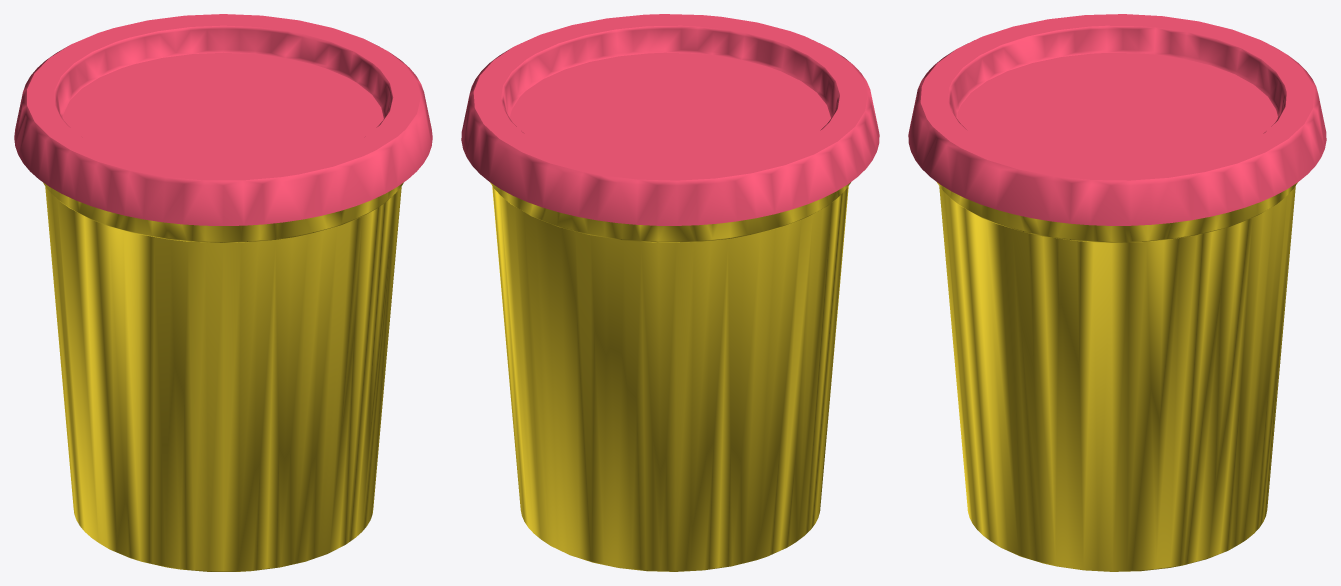
File: Toy188.fbx
3 views of the same model, side by side, from view 1: azimuth 30°, elevation 25°; view 2: azimuth 150°, elevation 25°; view 3: azimuth 270°, elevation 25° (orthographic).
Visible parts, largest first — view 1: Toy188; view 2: Toy188; view 3: Toy188.
Boxes of the visible parts, <box> form: Toy188: <box>14,14,432,571</box>; Toy188: <box>461,14,879,571</box>; Toy188: <box>908,14,1326,571</box>.
Size of the model in its own units: 0.1137 by 0.1238 by 0.1137.
